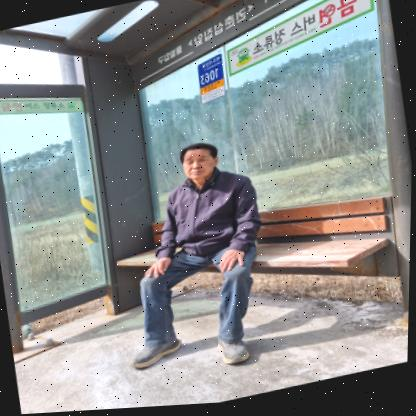person: (86, 114, 291, 378)
